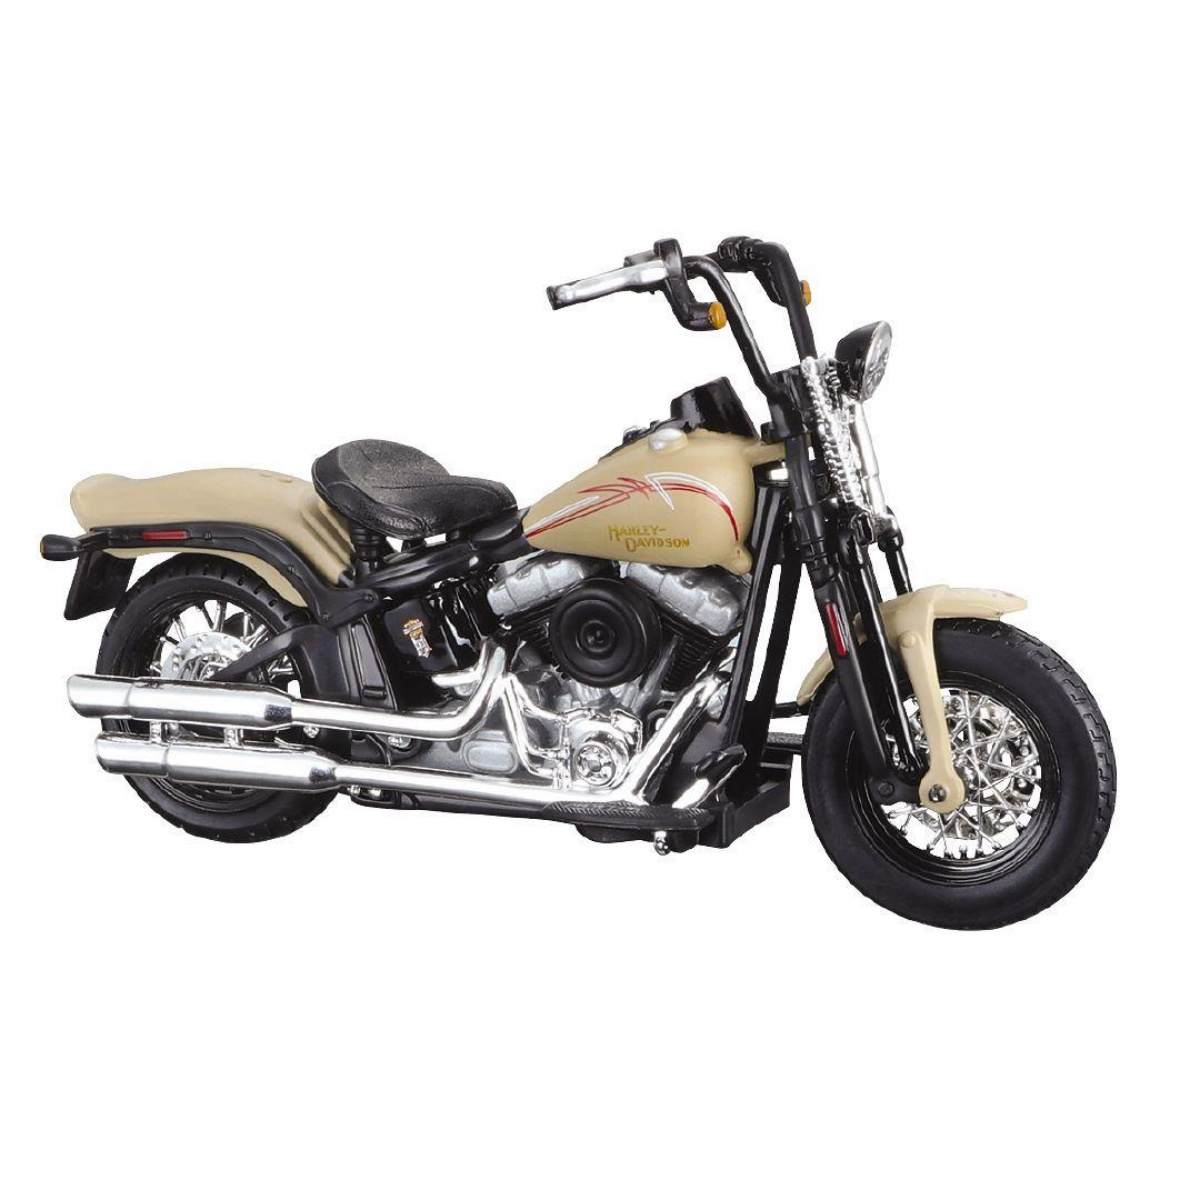motorcycle: (60, 338, 1116, 936)
